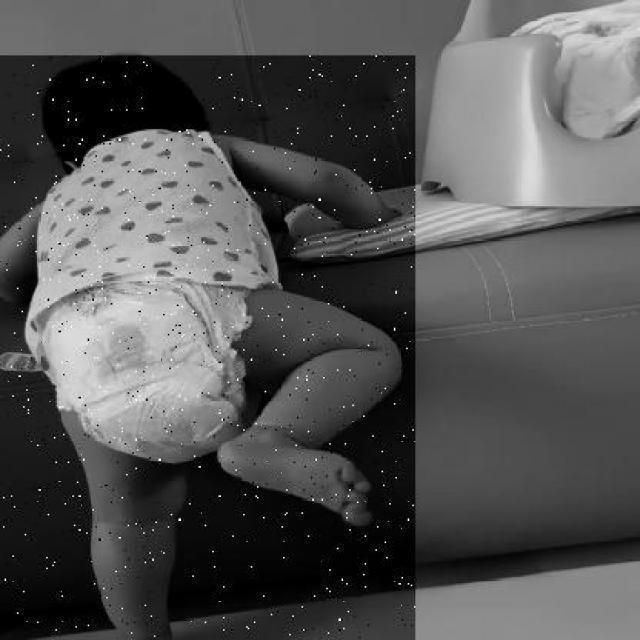child: (0, 55, 415, 639)
